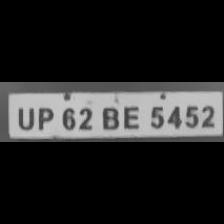2: (76, 104, 94, 132), (198, 103, 216, 130)
4: (166, 103, 182, 130)
5: (145, 102, 167, 130), (180, 103, 198, 130)
6: (57, 104, 76, 132)
B: (96, 104, 120, 130)
E: (120, 104, 142, 130)
P: (32, 104, 56, 132)
U: (12, 104, 36, 132)
